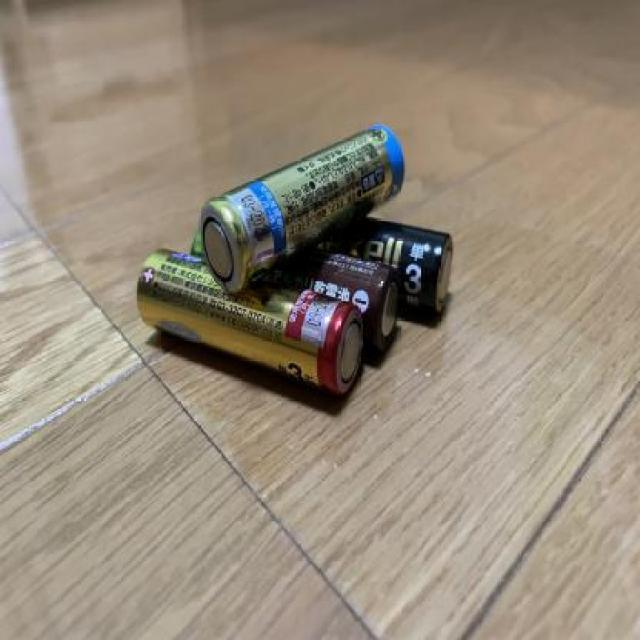hazardous waste: (194, 123, 420, 289), (136, 243, 364, 402), (189, 223, 403, 357), (316, 198, 456, 318)
